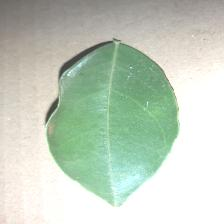healthy: (58, 41, 168, 206)
